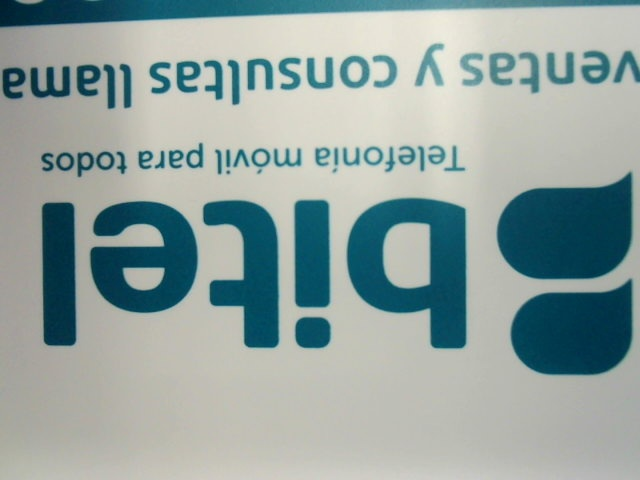BE_bitel: (28, 178, 637, 377)
